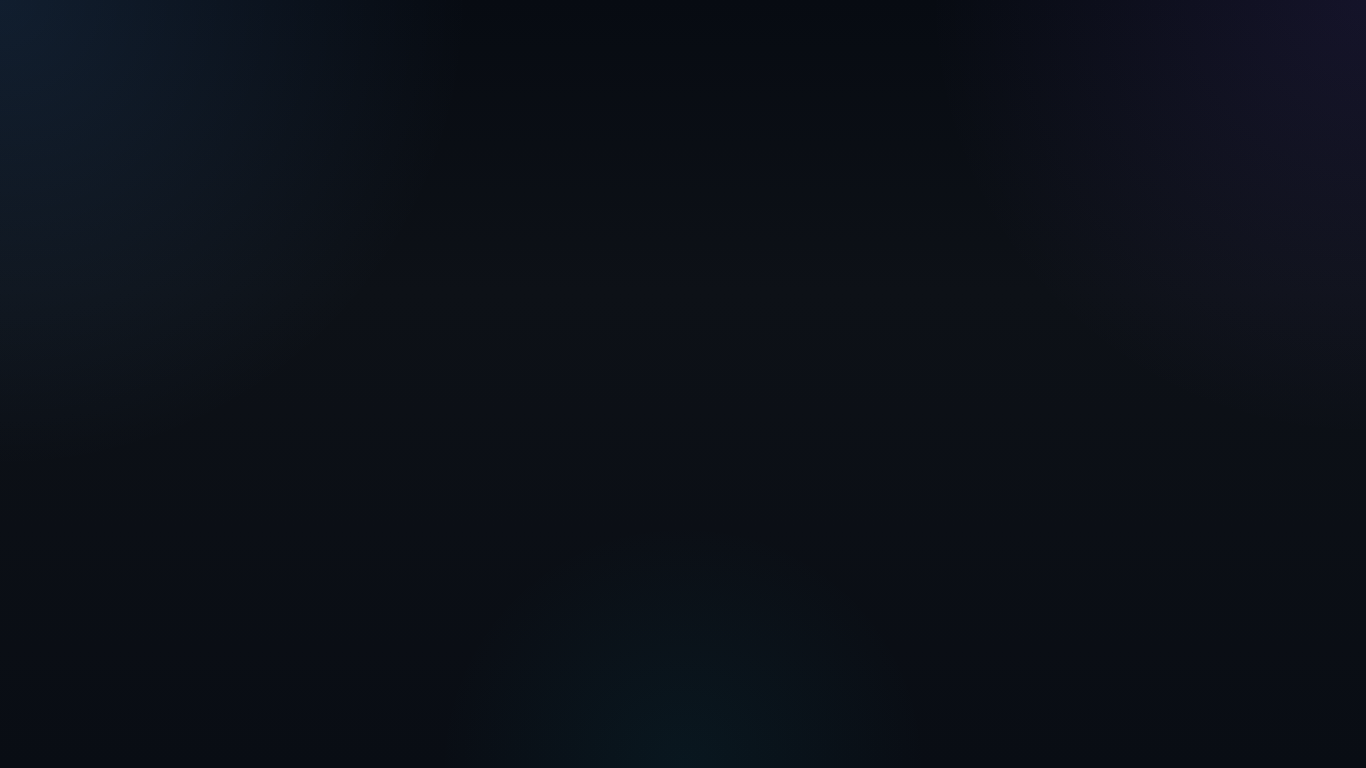
Test: TodoQuickAddGate › adds the typed item on Enter and stays open (cleared) for rapid entry
Press F1
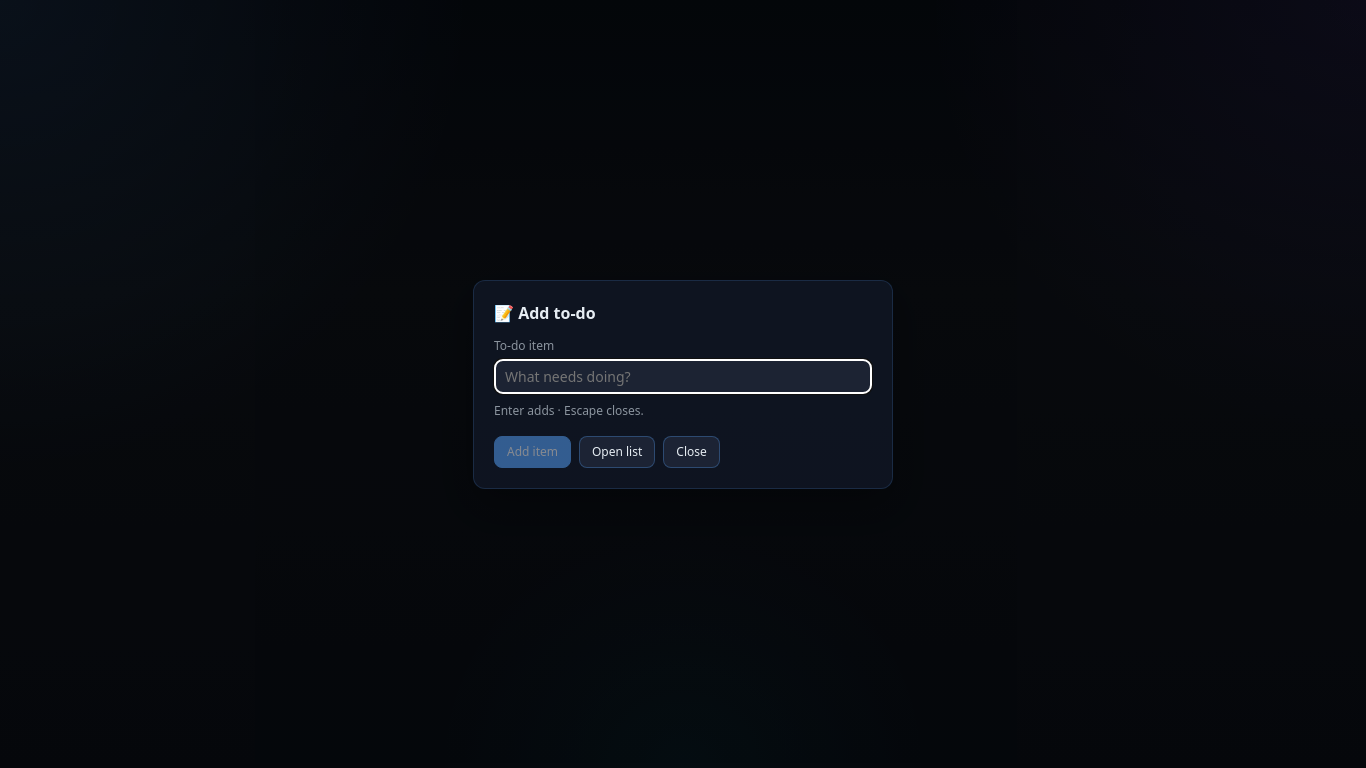
In the field labelled "To-do item": (683, 376) x1=494 y1=358 x2=872 y2=394, type "Ping infra about the cert"
Then press Enter
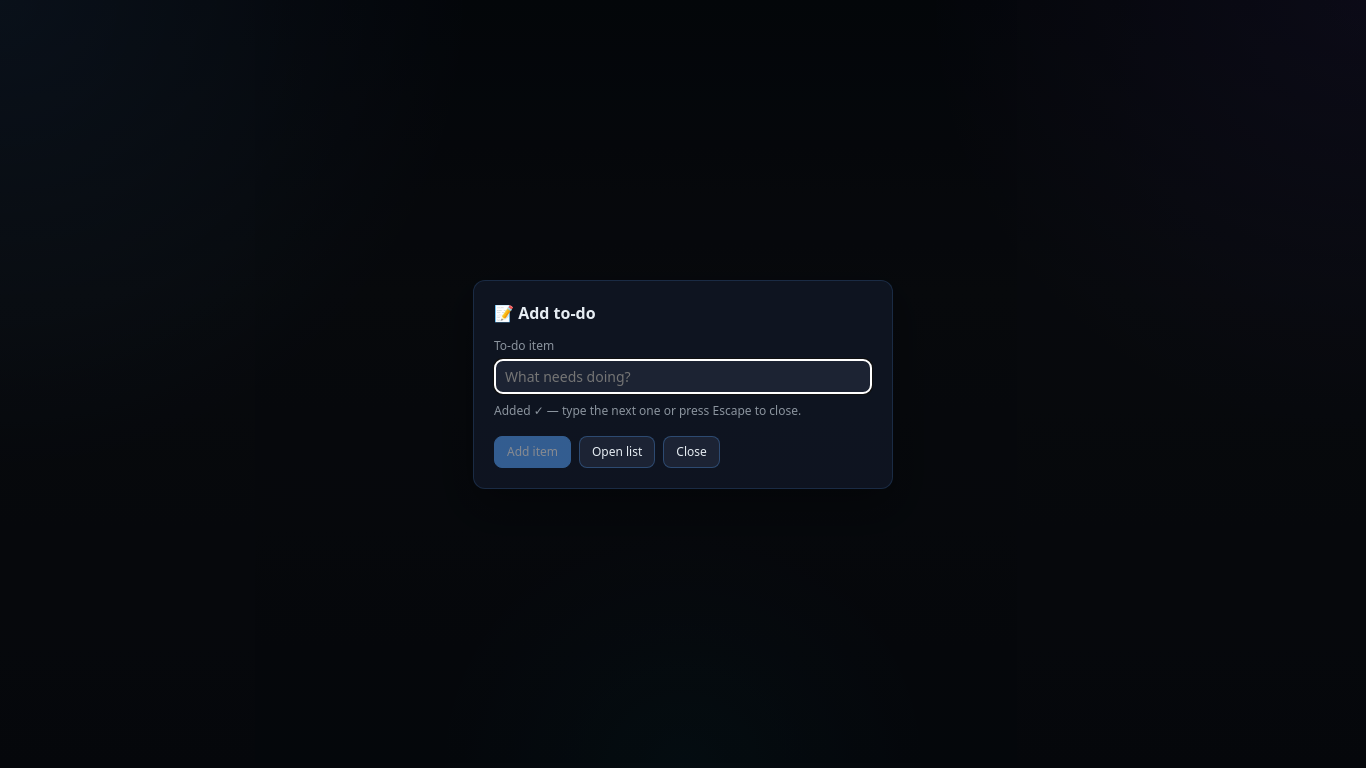
Result: the dialog is shown
Result: the field labelled "To-do item" is empty at x1=494 y1=358 x2=872 y2=394
Result: the text "Added ✓ — type the next one or press Escape to close." is shown at x1=494 y1=402 x2=801 y2=418
